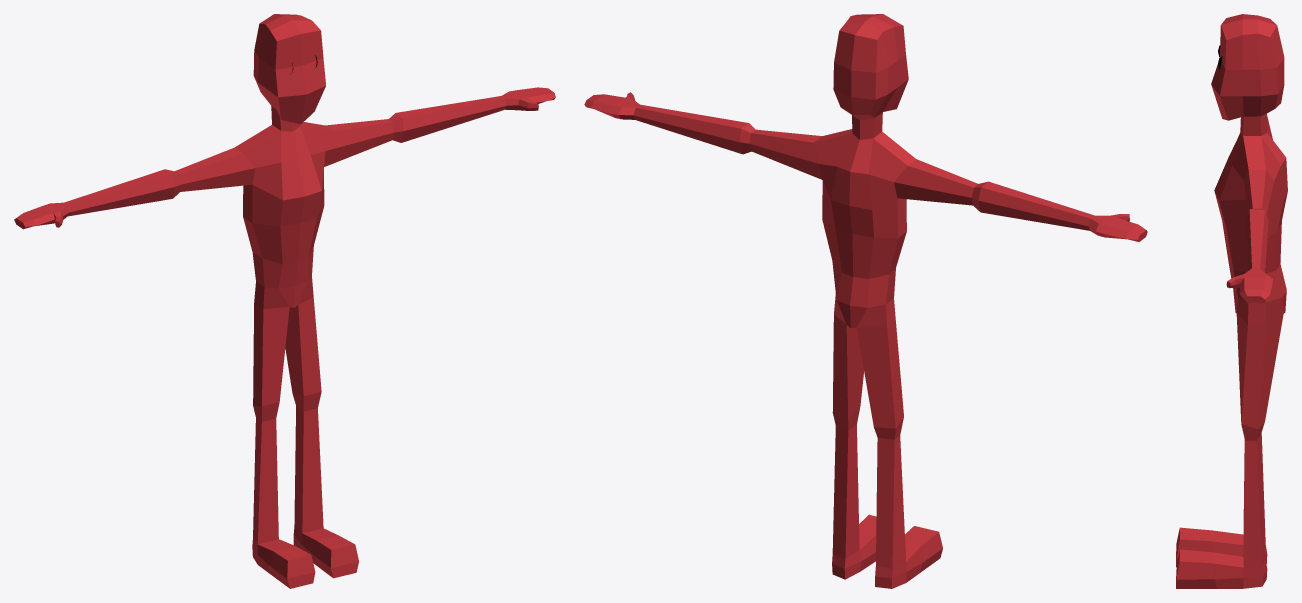
The picture shows the model from 3 angles, left to right: view 1: azimuth 30°, elevation 25°; view 2: azimuth 150°, elevation 25°; view 3: azimuth 270°, elevation 25°; orthographic projection. The views are drawn at different scales.
Visible parts, largest first — view 1: Pj; view 2: Pj; view 3: Pj.
Part boxes in pixels (<box>): Pj: <box>14,14,555,588</box>; Pj: <box>584,14,1147,588</box>; Pj: <box>1176,14,1287,588</box>.
Size of the model in its own units: 354 by 341 by 62.61.
